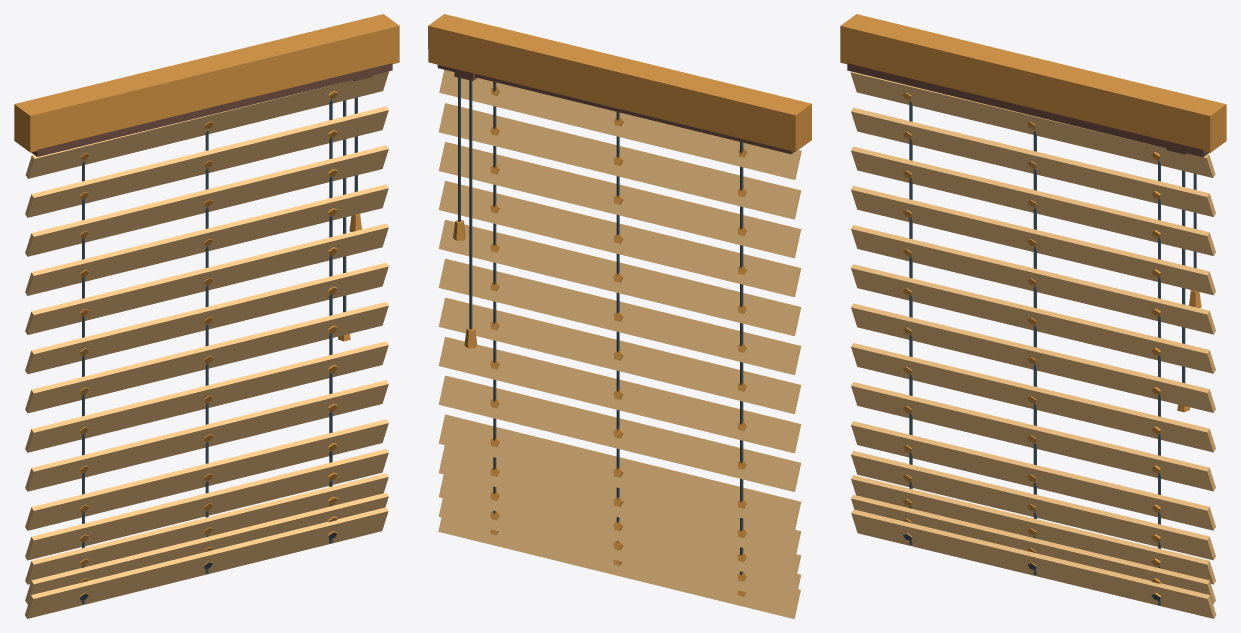
Rendered from Window Blinds.glb.
3 views of the same model, side by side, from view 1: azimuth 30°, elevation 25°; view 2: azimuth 150°, elevation 25°; view 3: azimuth 330°, elevation 25° (orthographic).
Visible parts, largest first — view 1: group427675855, group1785529362, group928384235, group77709967, group2011576104, group491062930, group765891613, group205479027, group1024187379, group830606209, group451389640, group1774544435 (+7 smaller); view 2: group427675855, group765891613, group491062930, group928384235, group1785529362, group451389640, group2011576104, group1774544435, group205479027, group1024187379, group830606209, group11767427 (+8 smaller); view 3: group427675855, group2011576104, group1024187379, group830606209, group77709967, group491062930, group205479027, group1774544435, group451389640, group928384235, group765891613, group1785529362 (+7 smaller).
Boxes of the visible parts, bbox=[...] form: group427675855: bbox=[14, 14, 399, 152]; group1785529362: bbox=[25, 262, 388, 374]; group928384235: bbox=[25, 341, 388, 452]; group77709967: bbox=[25, 507, 388, 618]; group2011576104: bbox=[25, 145, 388, 256]; group491062930: bbox=[25, 419, 388, 530]; group765891613: bbox=[25, 380, 388, 491]; group205479027: bbox=[25, 184, 388, 295]; group1024187379: bbox=[25, 223, 388, 334]; group830606209: bbox=[25, 449, 388, 560]; group451389640: bbox=[25, 302, 388, 413]; group1774544435: bbox=[25, 106, 388, 217]; group427675855: bbox=[428, 14, 811, 151]; group765891613: bbox=[438, 375, 801, 491]; group491062930: bbox=[438, 414, 801, 530]; group928384235: bbox=[438, 337, 801, 453]; group1785529362: bbox=[438, 259, 801, 374]; group451389640: bbox=[438, 297, 801, 413]; group2011576104: bbox=[438, 142, 801, 258]; group1774544435: bbox=[439, 103, 801, 219]; group205479027: bbox=[438, 181, 801, 296]; group1024187379: bbox=[438, 220, 801, 335]; group830606209: bbox=[438, 445, 801, 560]; group11767427: bbox=[438, 474, 801, 584]; group427675855: bbox=[840, 14, 1226, 152]; group2011576104: bbox=[851, 146, 1215, 255]; group1024187379: bbox=[851, 225, 1215, 334]; group830606209: bbox=[851, 451, 1215, 560]; group77709967: bbox=[851, 509, 1216, 618]; group491062930: bbox=[851, 421, 1215, 530]; group205479027: bbox=[851, 186, 1215, 295]; group1774544435: bbox=[851, 107, 1215, 216]; group451389640: bbox=[851, 303, 1215, 412]; group928384235: bbox=[851, 343, 1215, 452]; group765891613: bbox=[851, 382, 1215, 491]; group1785529362: bbox=[851, 264, 1215, 373].
Bounding box in the file's own units: 1.58 × 2.09 × 0.1306.
